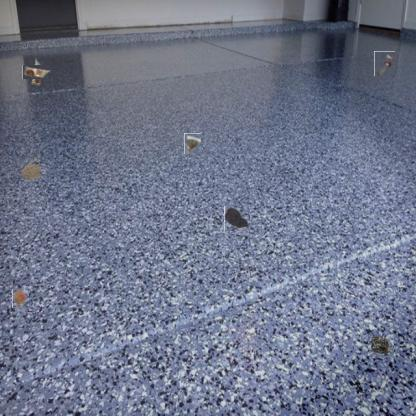dirty: (368, 334, 394, 356), (373, 52, 396, 75), (26, 62, 48, 83), (183, 134, 202, 153), (12, 288, 29, 308)
liquid: (224, 206, 250, 231), (20, 157, 46, 181)
